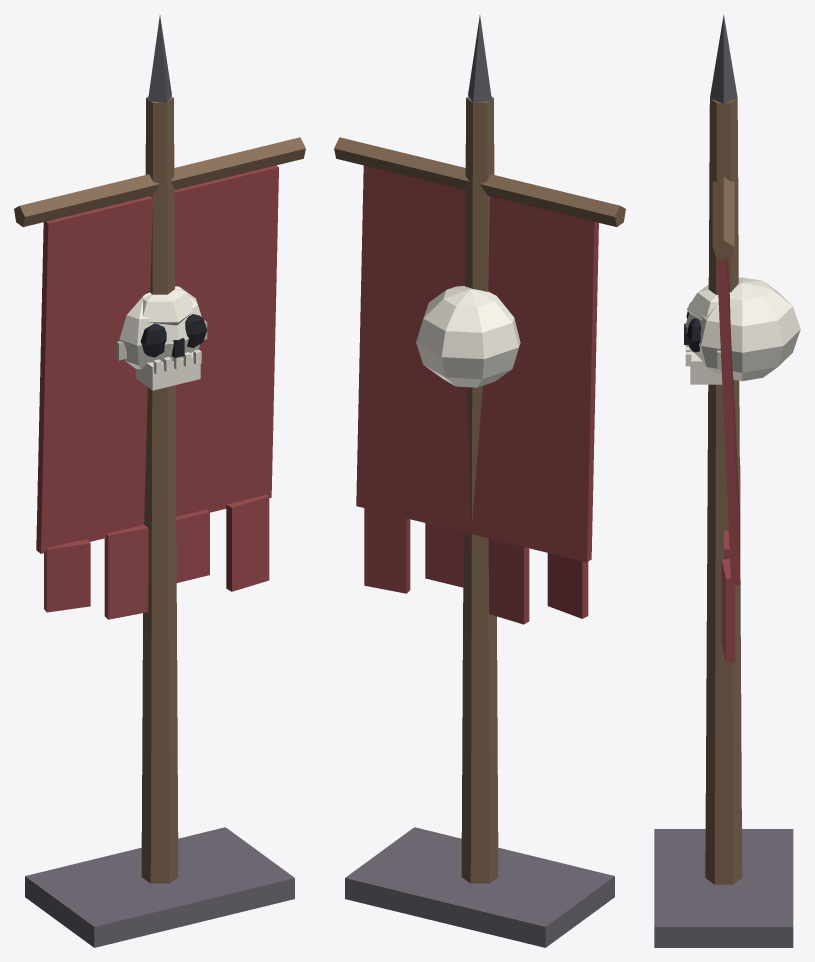
Rendered from banner.glb.
The picture shows the model from 3 angles, left to right: view 1: azimuth 30°, elevation 25°; view 2: azimuth 150°, elevation 25°; view 3: azimuth 270°, elevation 25°; orthographic projection.
Parts seen in each view (by area): view 1: banner; view 2: banner; view 3: banner.
Boxes of the visible parts, left/top/right/bottom form: banner: left=14, top=15, right=305, bottom=947; banner: left=334, top=15, right=625, bottom=947; banner: left=654, top=14, right=800, bottom=947.
Size of the model in its own units: 1.4 by 4.21 by 0.632.
